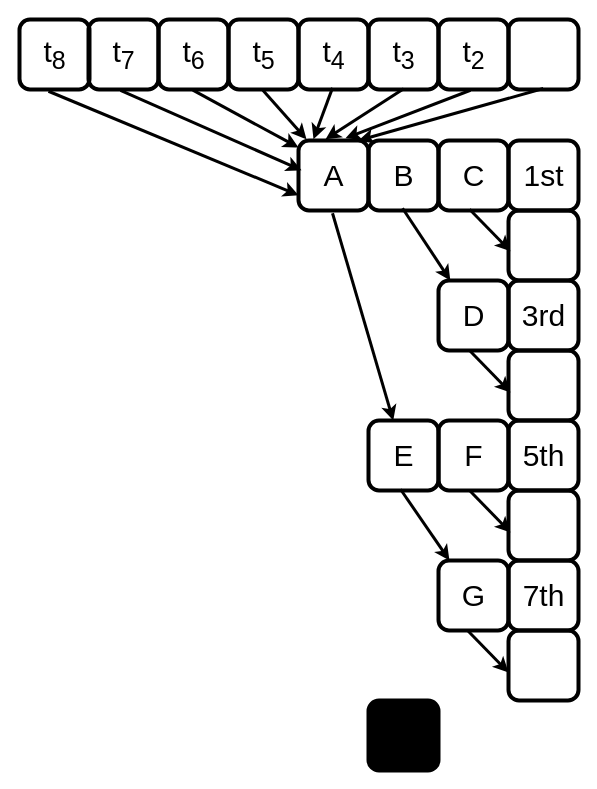
This 597x789 diagram has some shape labels left out. The centre of each missing label's shape, as x and y in pixels:
2nd: point 543,245
4th: point 543,385
6th: point 543,525
8th: point 543,665
t 1: point 543,54
